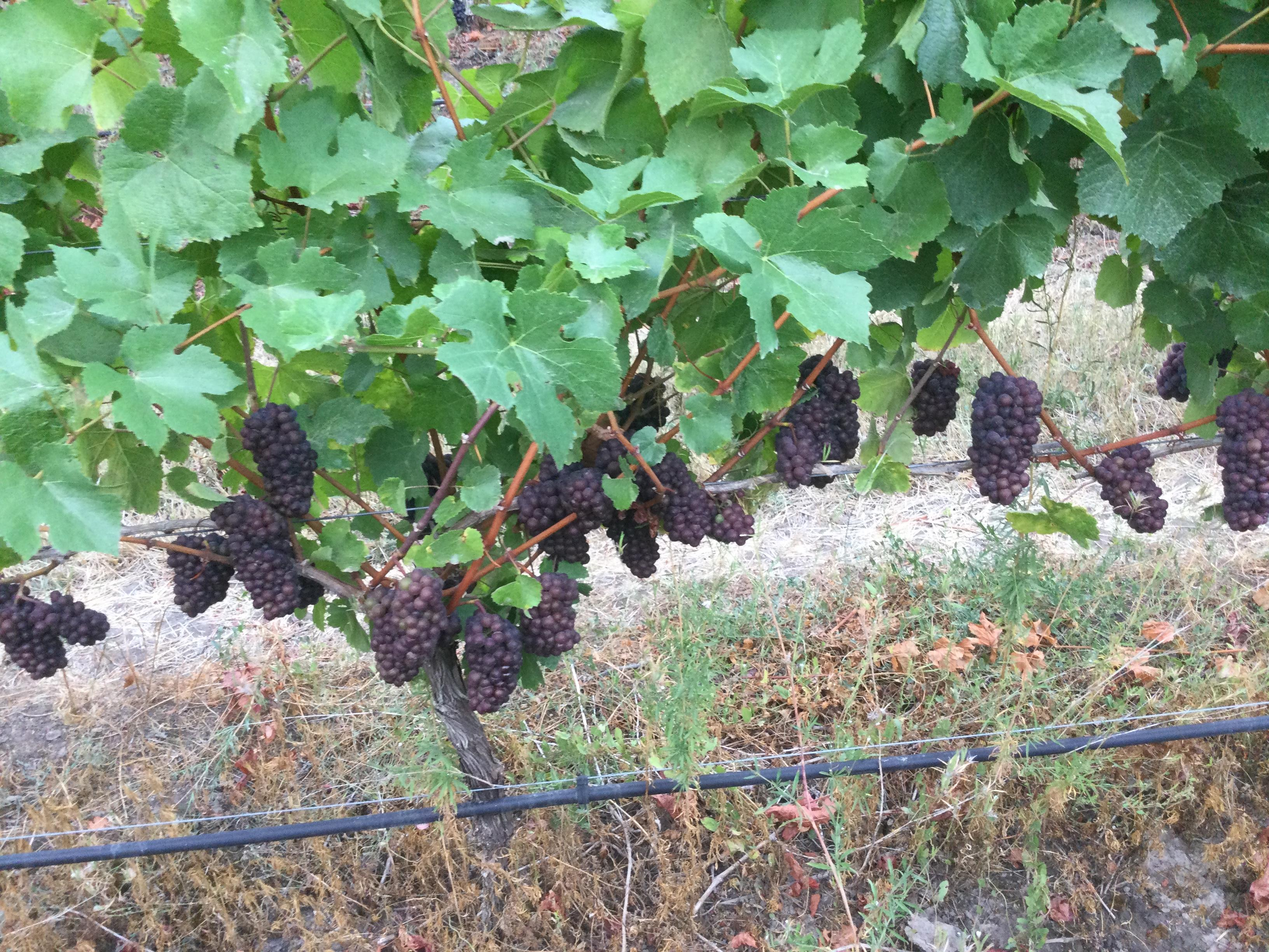leaf: (435, 279, 621, 457), (1077, 83, 1261, 246), (963, 0, 1131, 174), (694, 213, 869, 353), (83, 325, 239, 449), (102, 130, 261, 246), (260, 96, 409, 211), (226, 238, 364, 359), (54, 210, 195, 326), (397, 136, 534, 247), (710, 19, 863, 112), (0, 443, 121, 557), (0, 0, 107, 128), (170, 0, 287, 112), (1160, 182, 1268, 297), (509, 156, 699, 220), (933, 110, 1029, 231), (639, 0, 736, 113), (952, 216, 1053, 308), (856, 163, 951, 260), (553, 30, 639, 136), (664, 113, 762, 197), (0, 89, 93, 175), (74, 425, 162, 513), (279, 0, 360, 92), (184, 66, 257, 154), (779, 122, 867, 189), (90, 50, 159, 130), (142, 0, 201, 84), (1006, 496, 1099, 547), (914, 0, 969, 86), (7, 275, 76, 343), (119, 82, 186, 152), (1219, 56, 1268, 150), (567, 224, 645, 282), (470, 0, 619, 30), (0, 337, 60, 410), (0, 406, 66, 472), (303, 396, 390, 446), (919, 83, 974, 144), (680, 394, 733, 453), (407, 527, 482, 567), (311, 520, 368, 570), (1157, 34, 1205, 91), (1105, 0, 1159, 48), (856, 368, 911, 415), (166, 467, 227, 508), (326, 598, 371, 652), (1227, 291, 1268, 350), (1095, 255, 1142, 306), (855, 454, 910, 493), (0, 212, 28, 287), (459, 464, 501, 511), (490, 573, 540, 609), (628, 426, 667, 465), (601, 474, 638, 511), (376, 477, 407, 515), (782, 216, 798, 232), (860, 246, 876, 259), (903, 164, 913, 175), (360, 0, 379, 5), (844, 213, 853, 223), (220, 496, 224, 500), (198, 503, 206, 504), (177, 467, 181, 469), (1133, 255, 1135, 258), (909, 40, 911, 42), (184, 470, 188, 471), (130, 109, 134, 110), (130, 103, 131, 107), (5, 202, 8, 203), (212, 503, 215, 504), (864, 268, 865, 269), (420, 203, 422, 203), (498, 8, 505, 8), (0, 348, 2, 348)
